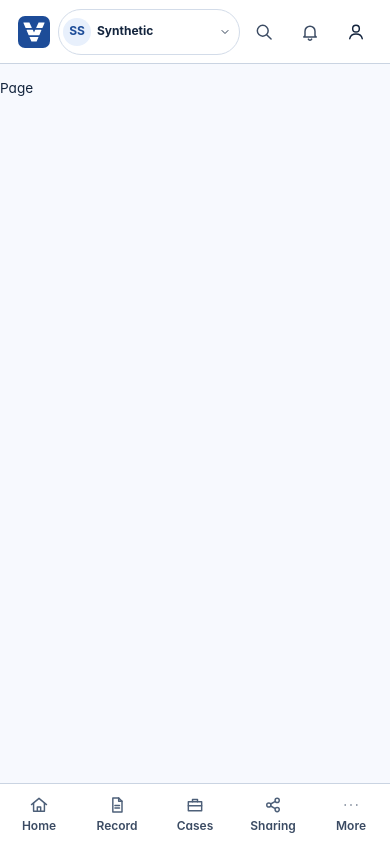
Test case: phone navigation and the context chip (WP-X3) › keeps four links on the bar and opens the rest from More
Click the button with class "app-more-toggle": [351, 814] box [312, 784, 389, 843]
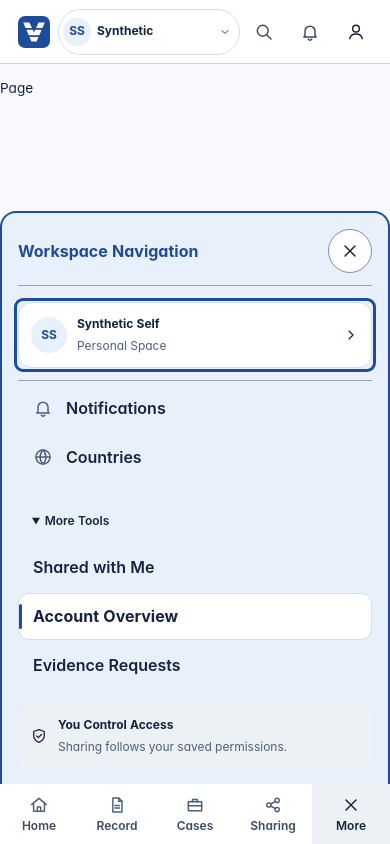
Now the button with class "app-more-toggle" is expanded, box [312, 784, 389, 843]
